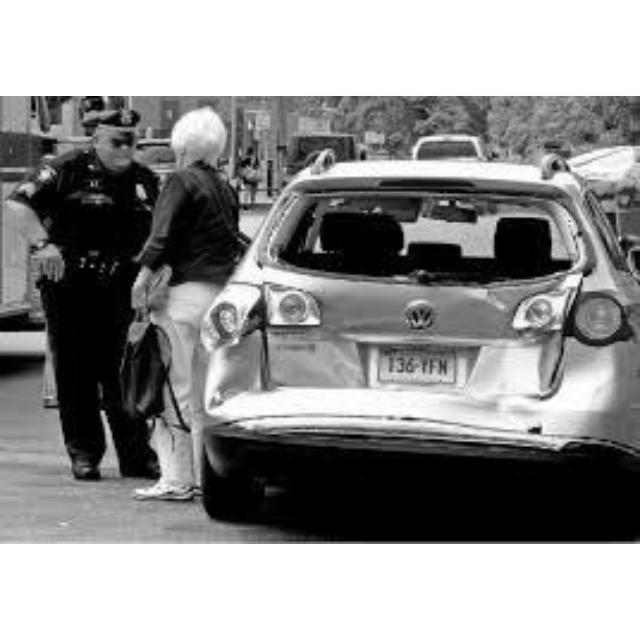Rear-windscreen-Damage: (272, 176, 580, 283)
boot-dent: (270, 278, 578, 414)
